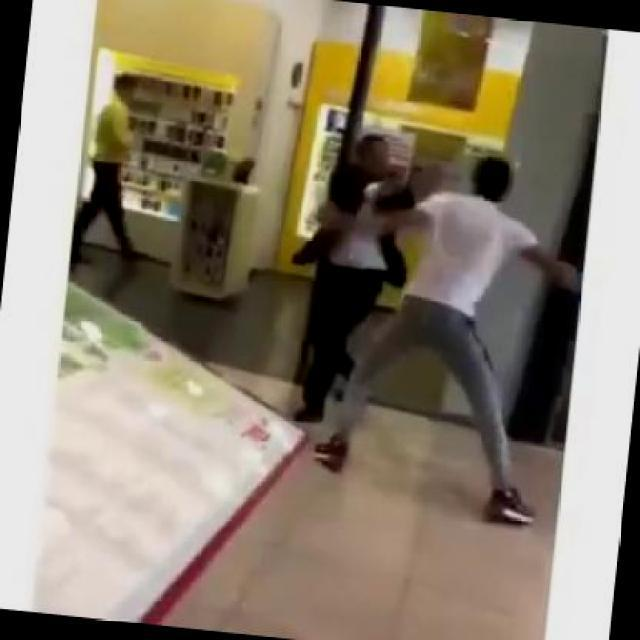fight: (272, 120, 590, 526)
